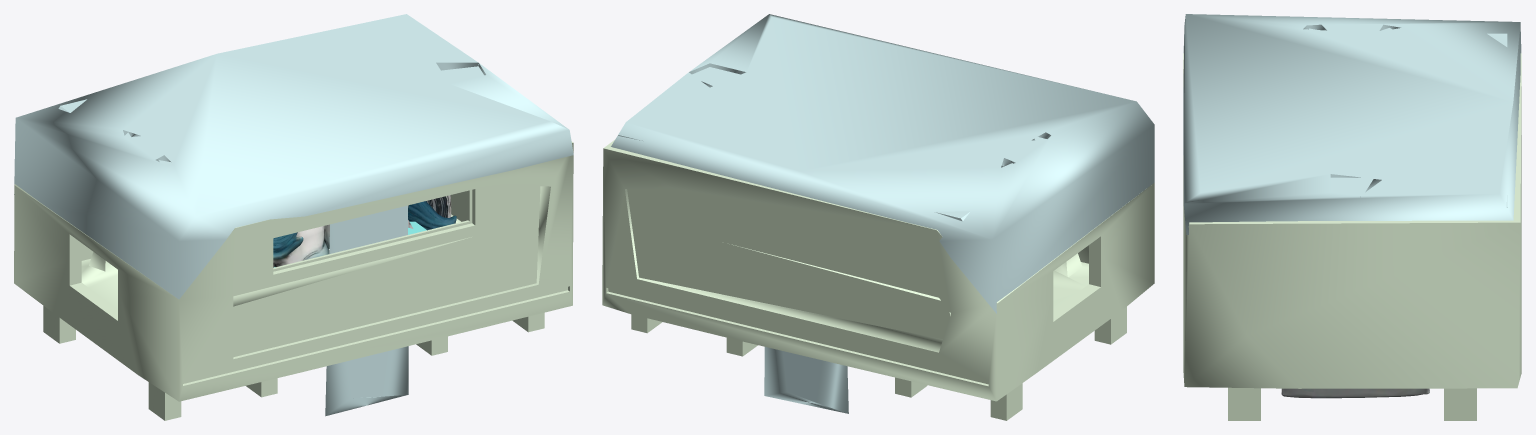
Rendered from longma.min.glb.
The picture shows the model from 3 angles, left to right: view 1: azimuth 30°, elevation 25°; view 2: azimuth 150°, elevation 25°; view 3: azimuth 270°, elevation 25°; orthographic projection. The views are drawn at different scales.
Visible parts, largest first — view 1: 上壳新2-2, 测试底盘-1, wesculpt_node_6aaebde5-0262-49dd-bafc-bb213b5b1127; view 2: 上壳新2-2, 测试底盘-1; view 3: 上壳新2-2, 测试底盘-1, wesculpt_node_6aaebde5-0262-49dd-bafc-bb213b5b1127.
Boxes of the visible parts, <box> form: 上壳新2-2: <box>14,14,573,416</box>; 测试底盘-1: <box>14,141,573,420</box>; wesculpt_node_6aaebde5-0262-49dd-bafc-bb213b5b1127: <box>273,201,456,267</box>; 上壳新2-2: <box>611,14,1154,413</box>; 测试底盘-1: <box>602,140,1154,420</box>; 上壳新2-2: <box>1183,14,1521,234</box>; 测试底盘-1: <box>1183,53,1521,420</box>; wesculpt_node_6aaebde5-0262-49dd-bafc-bb213b5b1127: <box>1281,388,1429,398</box>.
Size of the model in its own units: 185575 by 106525 by 132361.
Materials: 59 (3 with a texture image).
